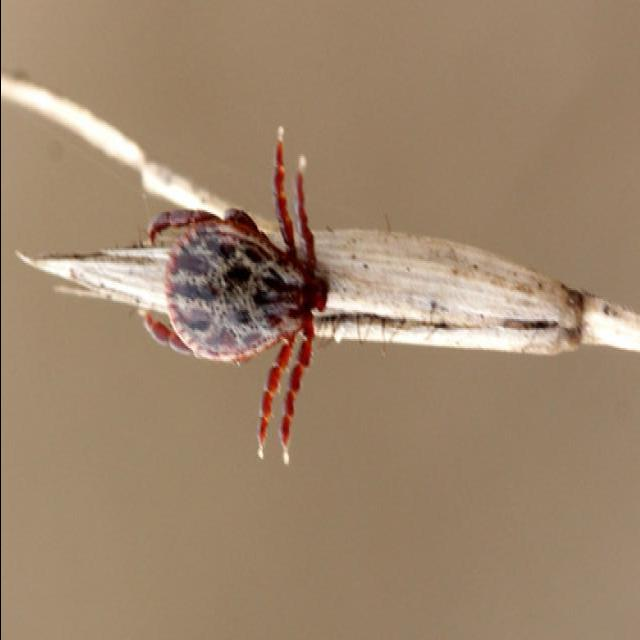Dermacentor Reticulatus-M: (143, 136, 327, 457)
